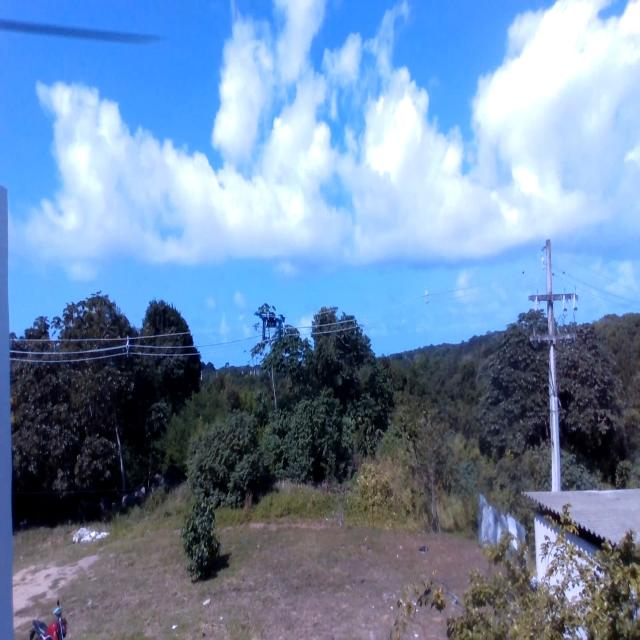-uav-: (254, 305, 291, 348)
